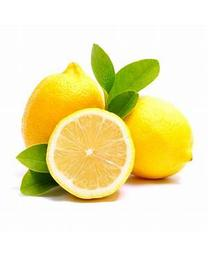lemon: (46, 108, 136, 198), (22, 61, 106, 149), (120, 94, 194, 180)
